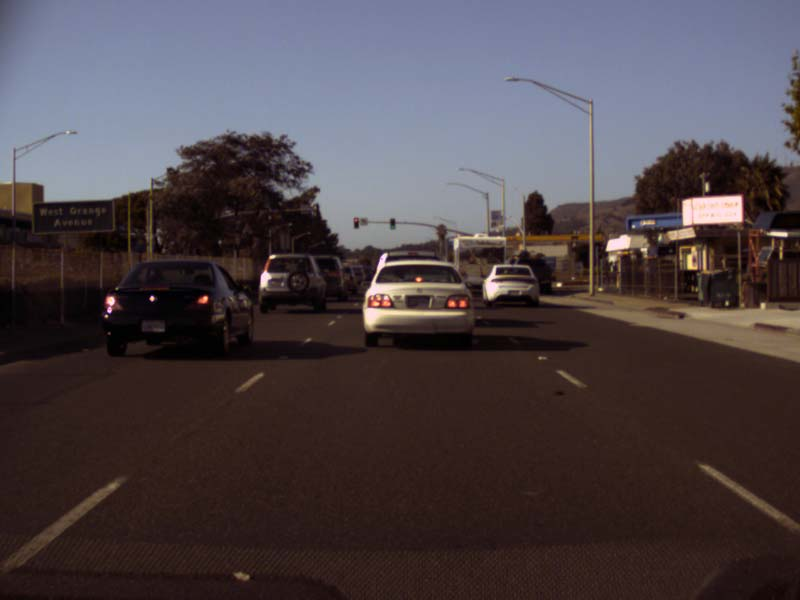Green: (389, 217, 395, 230)
Red: (352, 217, 359, 230)
